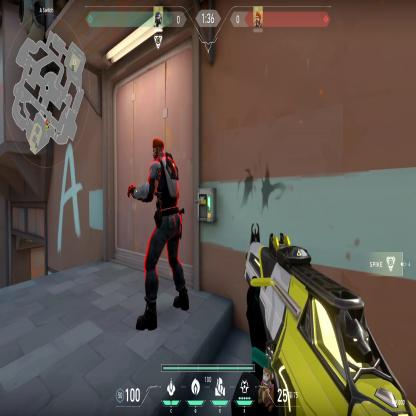enemy: (126, 135, 190, 332)
